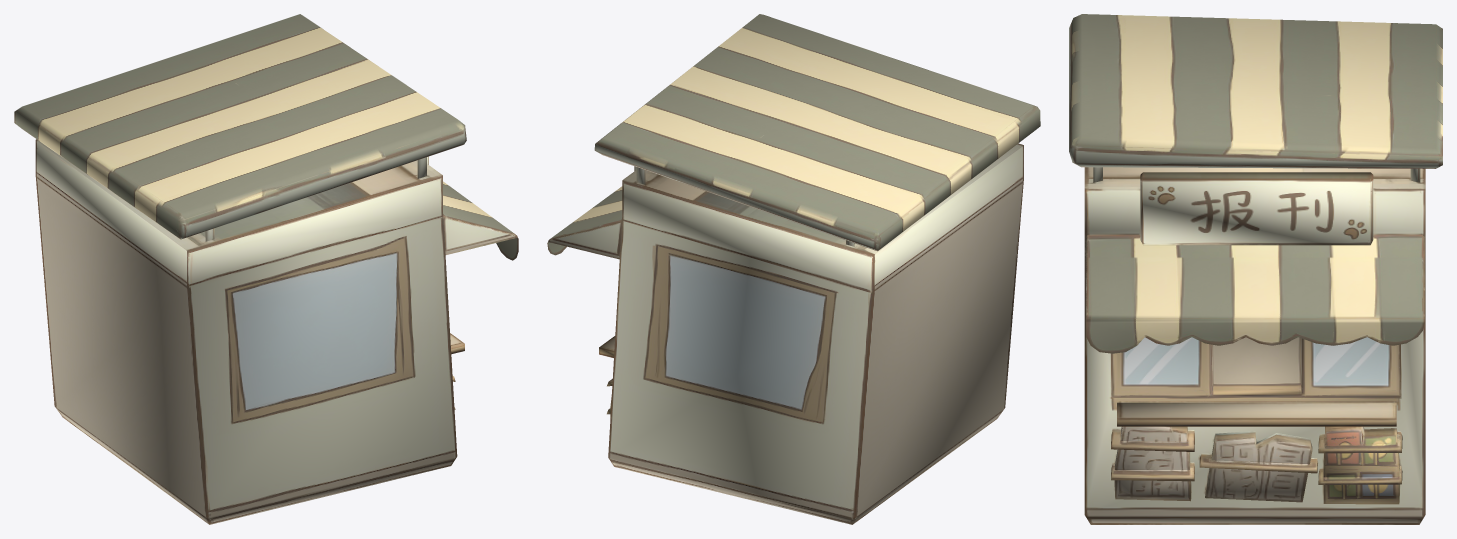
Rendered from 报刊亭3d模型.fbx.
The picture shows the model from 3 angles, left to right: view 1: azimuth 30°, elevation 25°; view 2: azimuth 150°, elevation 25°; view 3: azimuth 270°, elevation 25°; orthographic projection. The views are drawn at different scales.
Parts seen in each view (by area): view 1: meshes[0]; view 2: meshes[0]; view 3: meshes[0].
Boxes of the visible parts, x1,y1,x2,y2 form: meshes[0]: (14,14,518,524); meshes[0]: (547,14,1040,524); meshes[0]: (1069,14,1442,524).
Size of the model in its own units: 0.998 by 0.9629 by 0.8379.
1 material, 1 textured.
